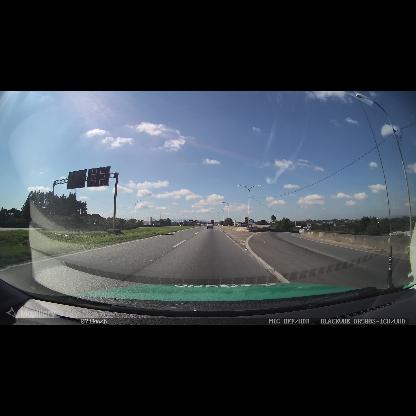O-MP: (245, 217, 248, 226)
R-19: (249, 219, 254, 224), (307, 223, 311, 228)
